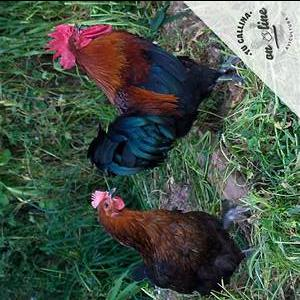hen: (43, 22, 246, 177), (89, 187, 260, 297)
